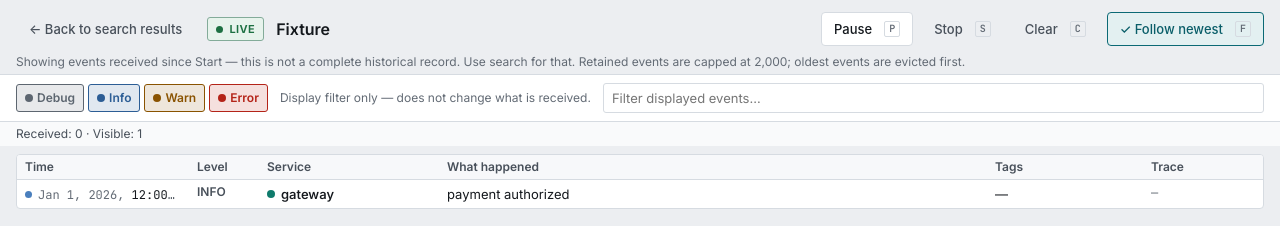
LiveTailPanel › text filtering (Legacy Remediation Slice 5) › shows a "no events match" message when the filter excludes everything, distinct from the true-empty state
Type "no-such-text" into the field with placeholder "Filter displayed events…" at (933, 98), box [603,83,1264,113]
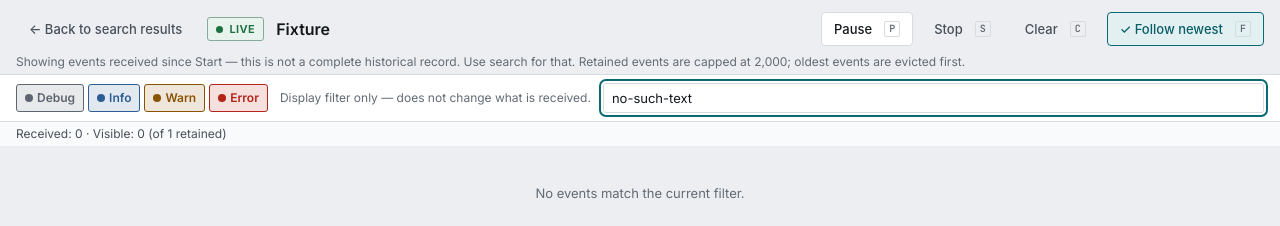
Check: the text "No events match the current filter." is shown, box [535,185,745,201]
